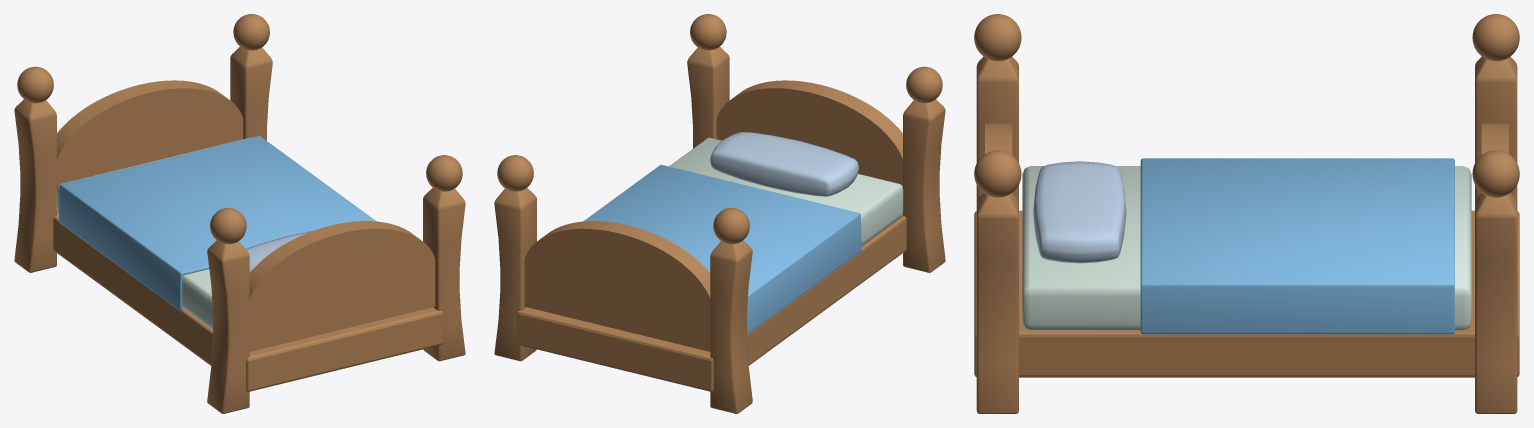
File: bed.fbx
3 views of the same model, side by side, from view 1: azimuth 30°, elevation 25°; view 2: azimuth 150°, elevation 25°; view 3: azimuth 270°, elevation 25° (orthographic). The views are drawn at different scales.
Parts seen in each view (by area): view 1: Circle, Plane.005, Plane.003, Plane, Plane.001, Plane.004; view 2: Circle, Plane.003, Plane.005, Plane, Plane.004, Plane.001; view 3: Plane.005, Plane.003, Plane, Plane.001, Plane.004, Circle.
Boxes of the visible parts, left/top/right/bottom form: Circle: left=57, top=80, right=435, bottom=351; Plane.005: left=59, top=136, right=376, bottom=310; Plane.003: left=14, top=14, right=465, bottom=413; Plane: left=53, top=213, right=442, bottom=391; Plane.001: left=56, top=137, right=250, bottom=329; Plane.004: left=245, top=231, right=311, bottom=272; Circle: left=524, top=80, right=902, bottom=351; Plane.003: left=494, top=14, right=945, bottom=413; Plane.005: left=583, top=164, right=861, bottom=334; Plane: left=517, top=213, right=906, bottom=391; Plane.004: left=710, top=132, right=858, bottom=196; Plane.001: left=669, top=137, right=903, bottom=245; Plane.005: left=1140, top=158, right=1454, bottom=334; Plane.003: left=974, top=14, right=1519, bottom=413; Plane: left=974, top=210, right=1519, bottom=377; Plane.001: left=1022, top=166, right=1471, bottom=330; Plane.004: left=1033, top=161, right=1126, bottom=263; Circle: left=985, top=123, right=1508, bottom=154.
Size of the model in its own units: 206 by 156 by 303.
